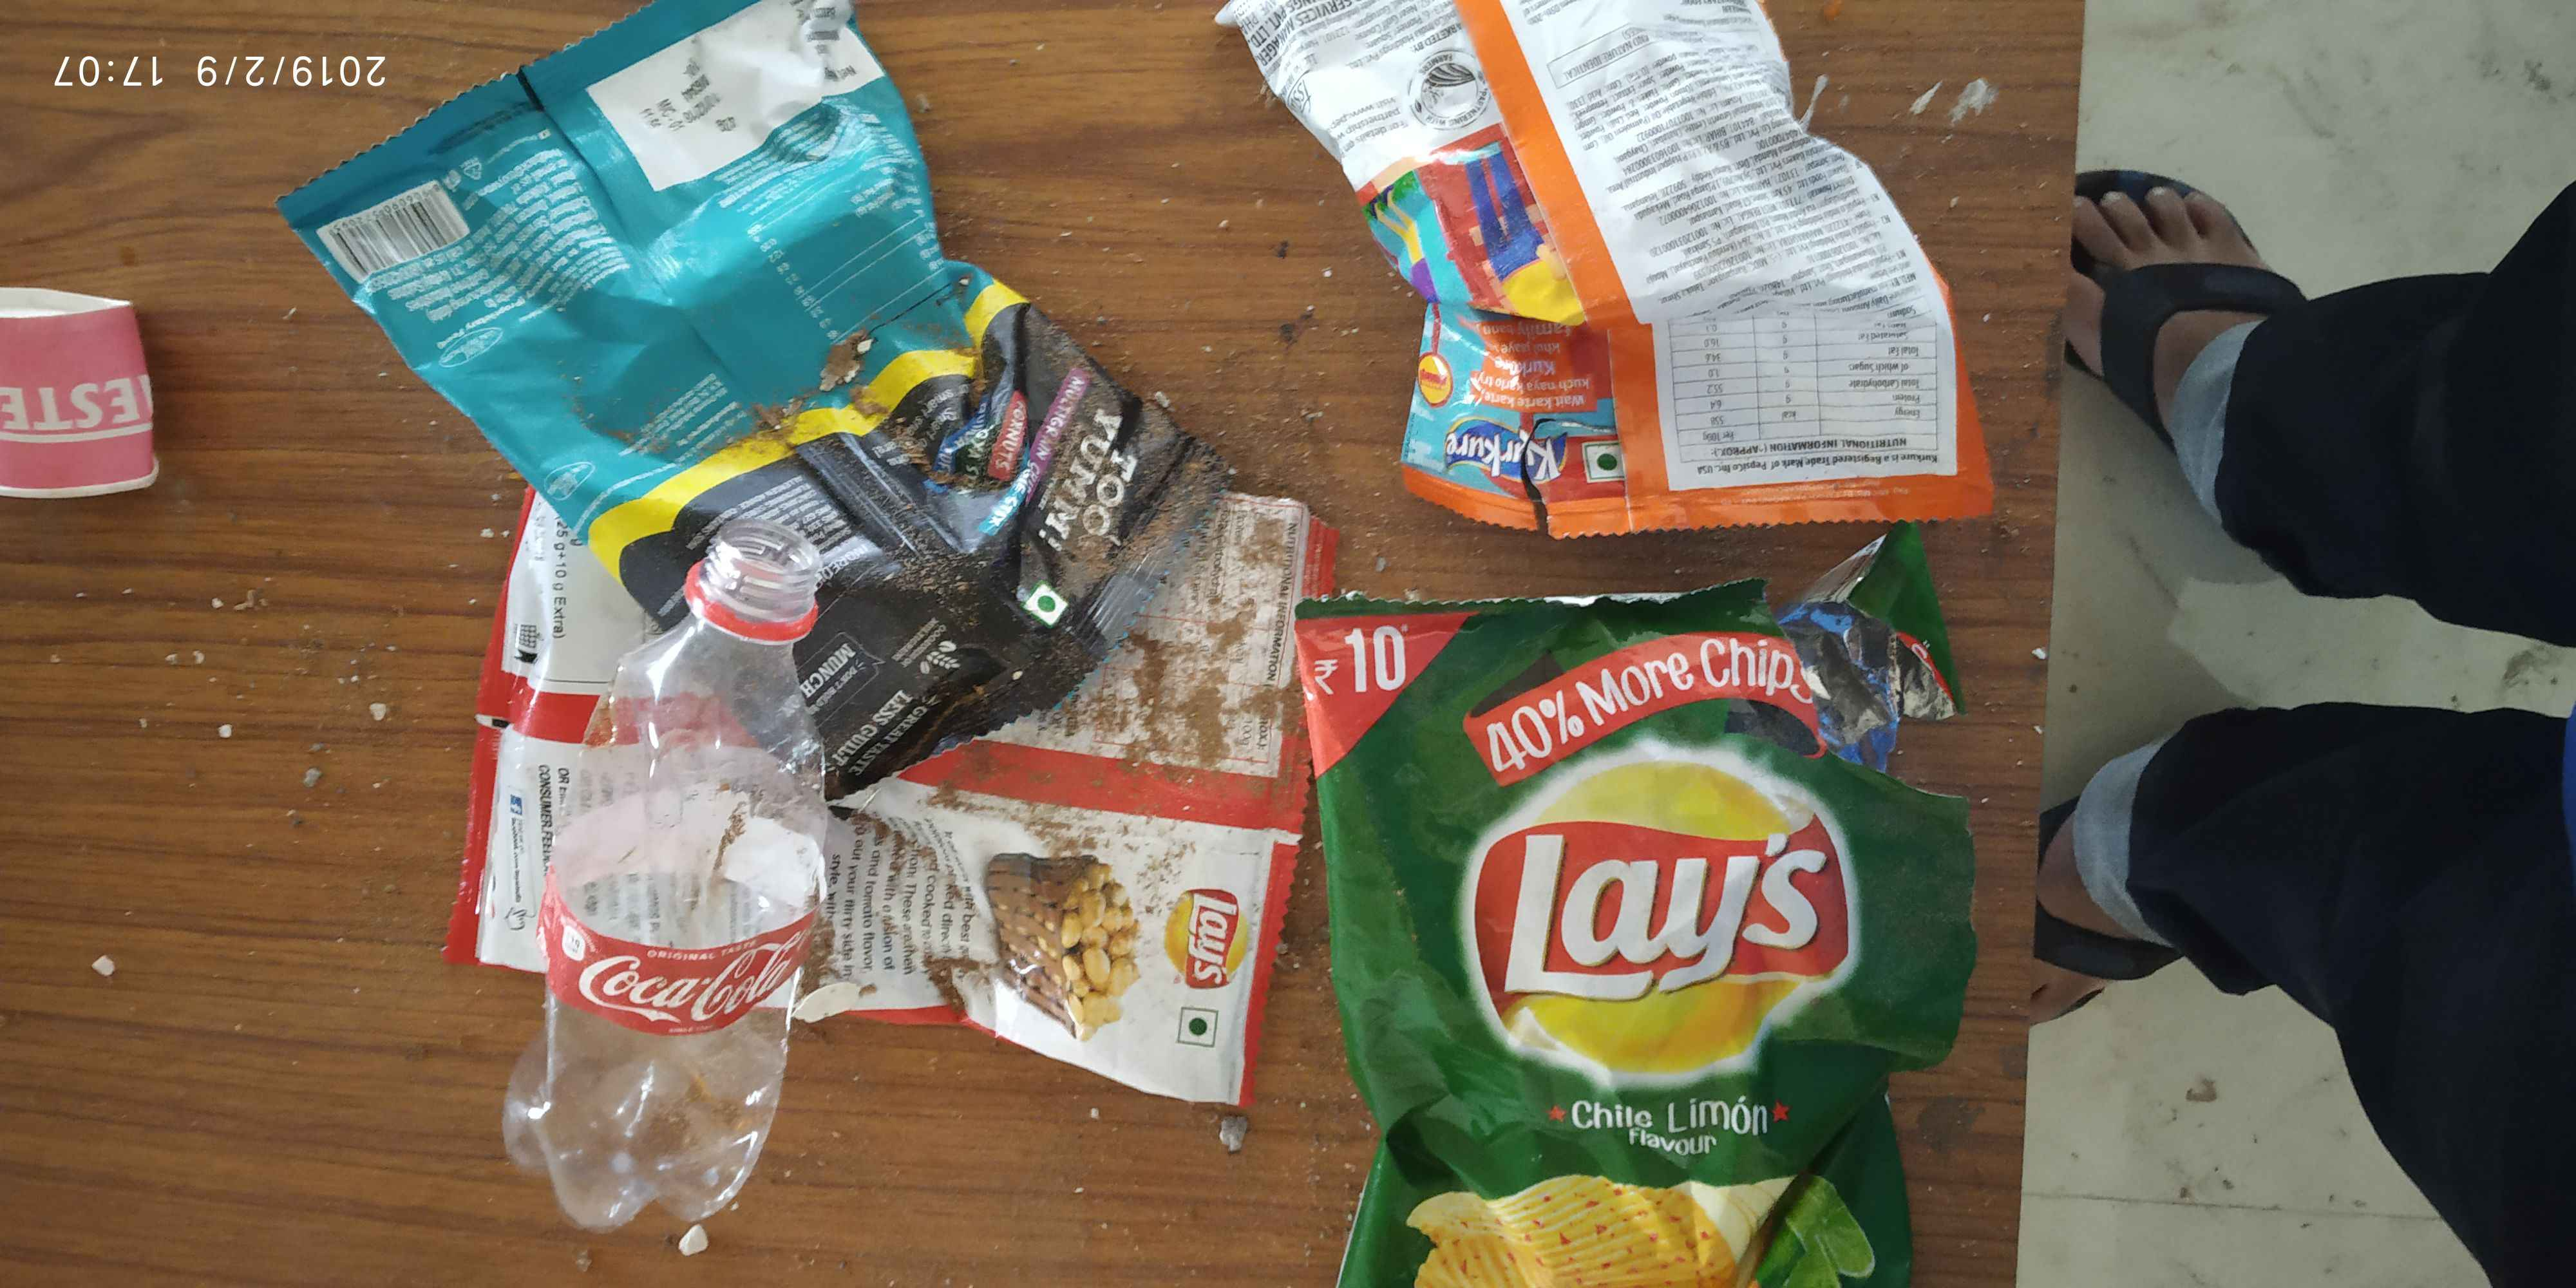Coca-Cola: (554, 930, 808, 1017)
Lays: (1475, 721, 1873, 1099), (1160, 864, 1252, 1017)
kurkure: (1441, 414, 1580, 498)
tooyumm: (1037, 402, 1160, 570)
